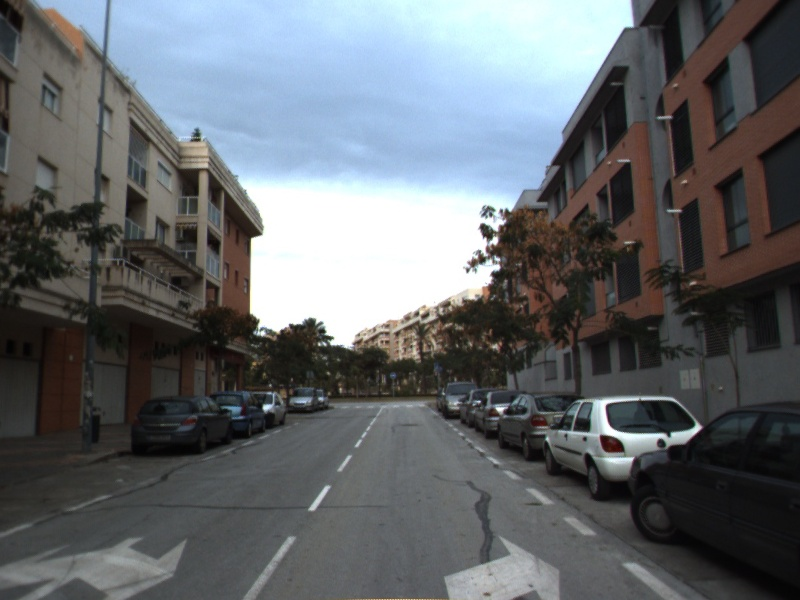RIGHT: (440, 529, 564, 600)
